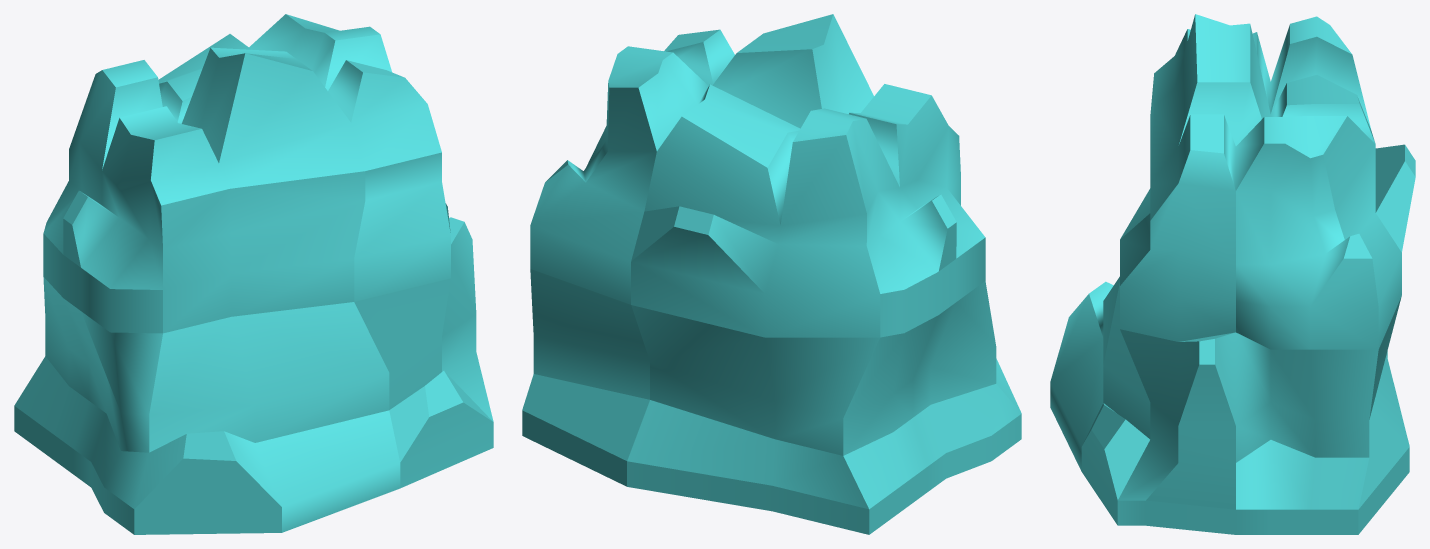
Rendered from IceWall.fbx.
The picture shows the model from 3 angles, left to right: view 1: azimuth 30°, elevation 25°; view 2: azimuth 150°, elevation 25°; view 3: azimuth 270°, elevation 25°; orthographic projection.
Visible parts, largest first — view 1: pCube3; view 2: pCube3; view 3: pCube3.
Boxes of the visible parts, left/top/right/bottom form: pCube3: left=14, top=14, right=493, bottom=534; pCube3: left=522, top=14, right=1021, bottom=534; pCube3: left=1050, top=14, right=1415, bottom=534.
Bounding box in the file's own units: 14.35 × 15.08 × 12.15.
